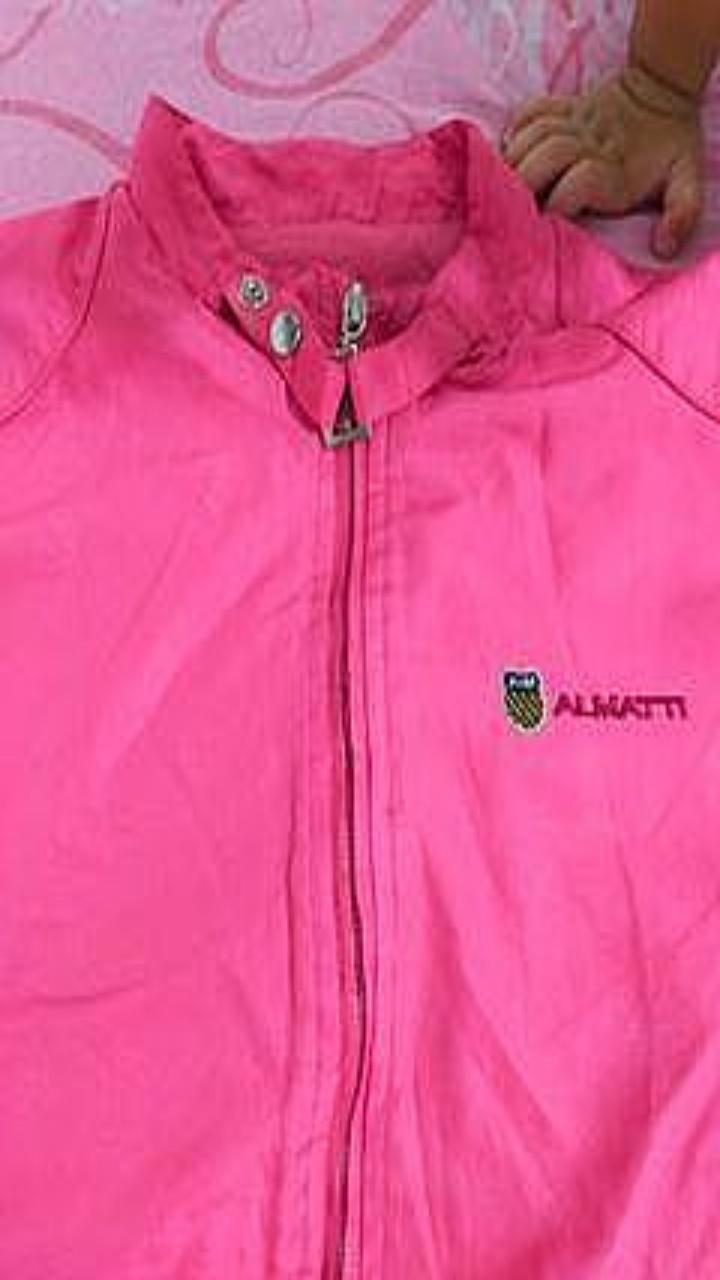Sports_Jacket: (0, 94, 719, 1279)
